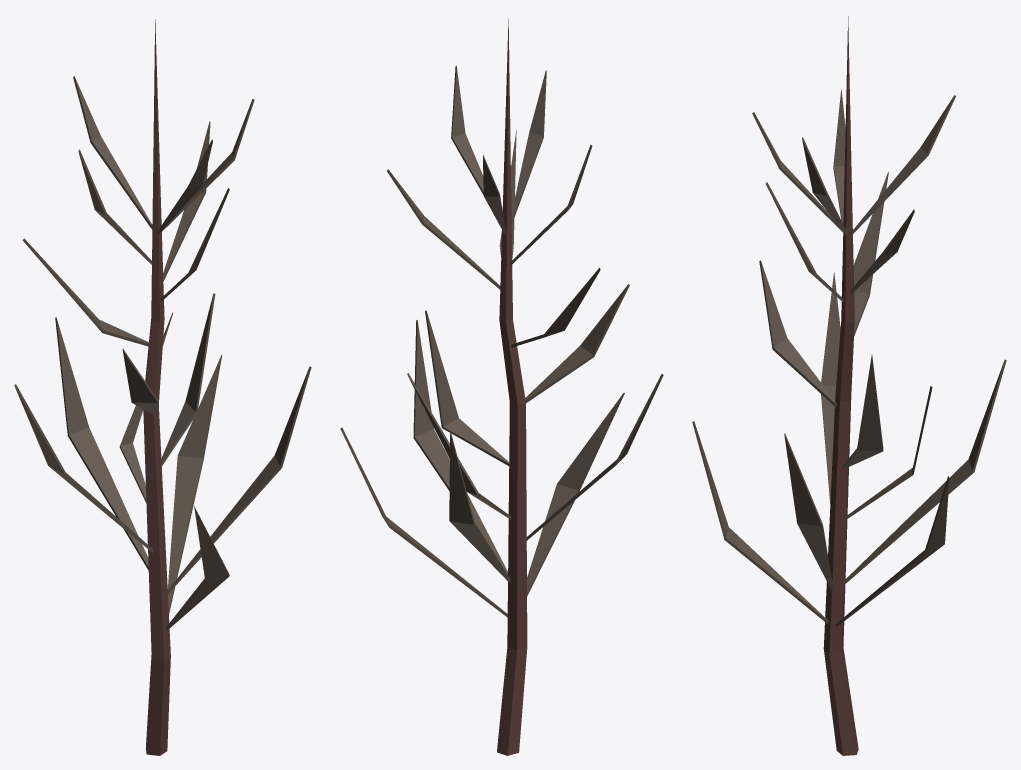
The model's file is Plant_2.glb.
The picture shows the model from 3 angles, left to right: view 1: azimuth 30°, elevation 25°; view 2: azimuth 150°, elevation 25°; view 3: azimuth 270°, elevation 25°; orthographic projection.
Visible parts, largest first — view 1: Leaves, Wood; view 2: Leaves, Wood; view 3: Leaves, Wood.
Boxes of the visible parts, x1=… form: Leaves: x1=14, y1=76, x2=311, y2=630; Wood: x1=143, y1=19, x2=170, y2=755; Leaves: x1=340, y1=65, x2=663, y2=617; Wood: x1=497, y1=19, x2=527, y2=755; Leaves: x1=692, y1=89, x2=1006, y2=626; Wood: x1=823, y1=16, x2=858, y2=755.
Size of the model in its own units: 0.6859 by 1.77 by 0.6859.
